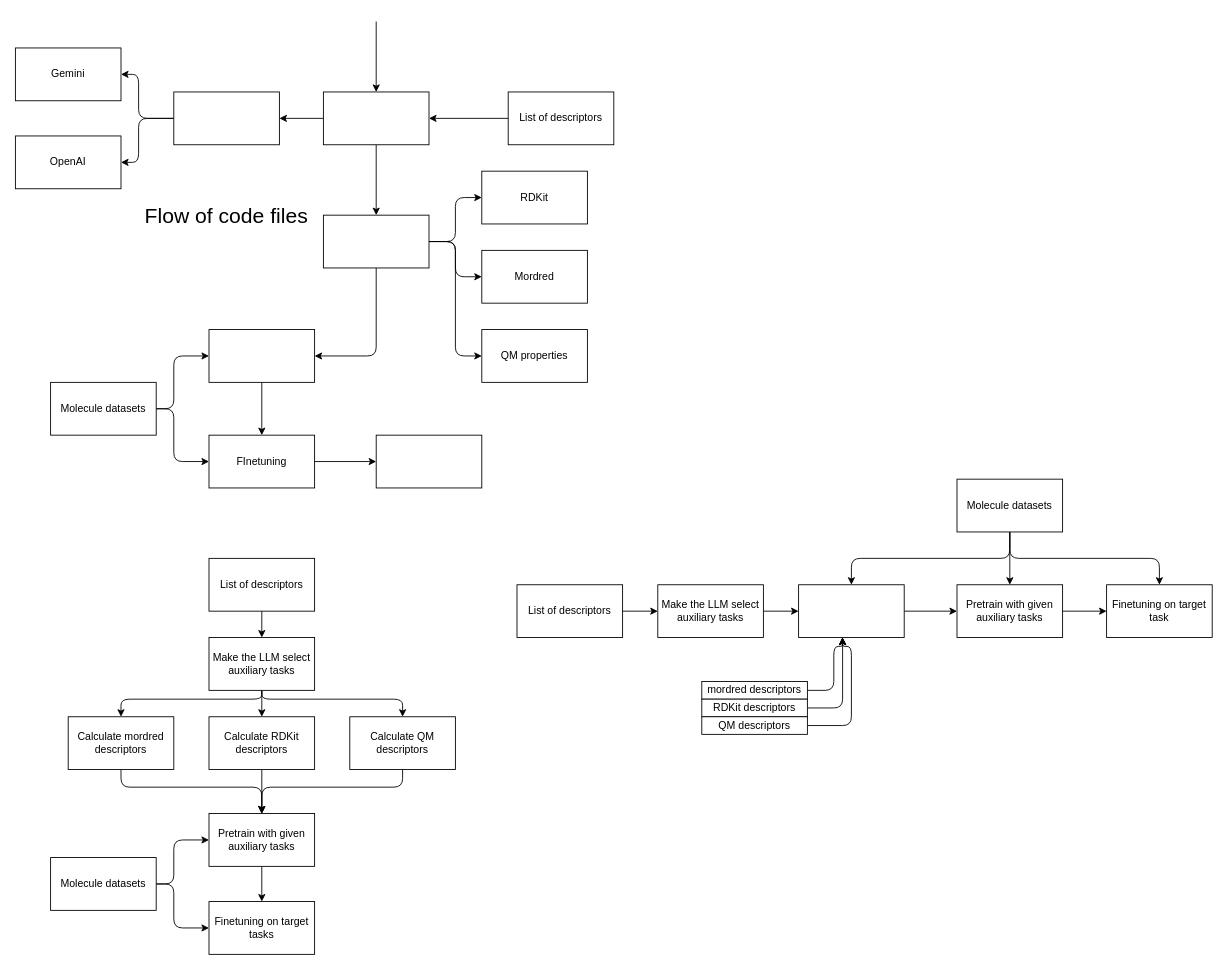
This 1228x970 diagram has some shape labels left out. The shapes that lost their labels are listed below. From the top down, each one's box as (x1, y1, x2, y2) in pixels, then its label:
(173, 91, 279, 145): LLMClass
(323, 91, 429, 145): Pipeline
(323, 214, 429, 268): Descriptor calculations
(208, 329, 315, 382): Pretraining
(375, 434, 482, 488): Finished trained model
(798, 584, 904, 638): Calculate values of auxiliary tasks
